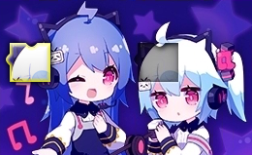gap: (136, 42, 178, 82)
